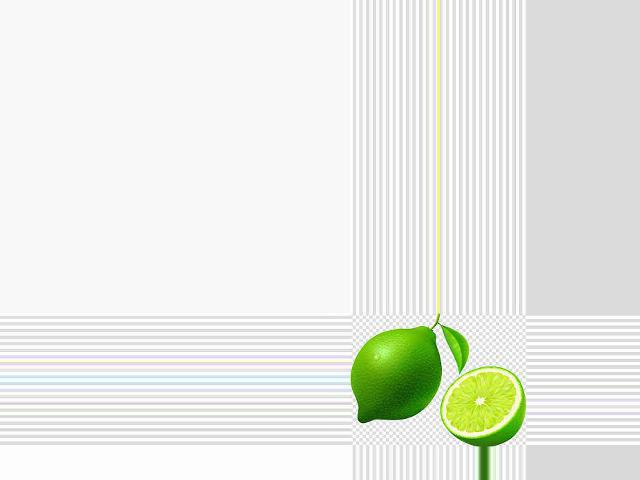lemon: (350, 322, 446, 429)
